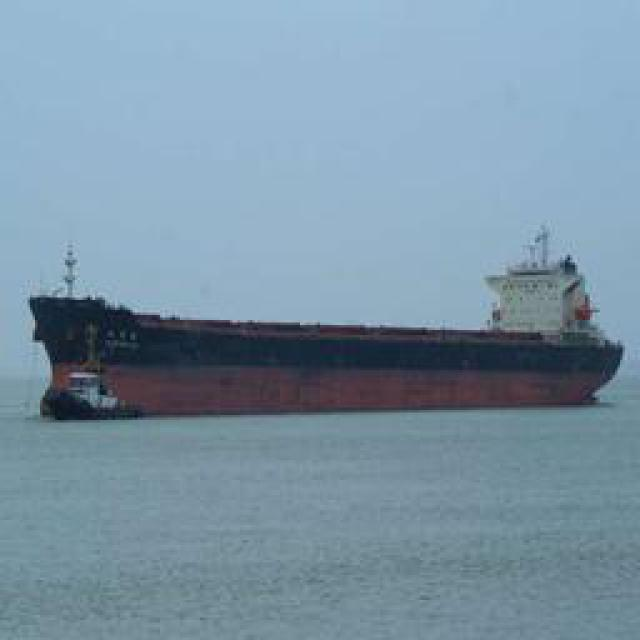Ship: (37, 231, 625, 416)
